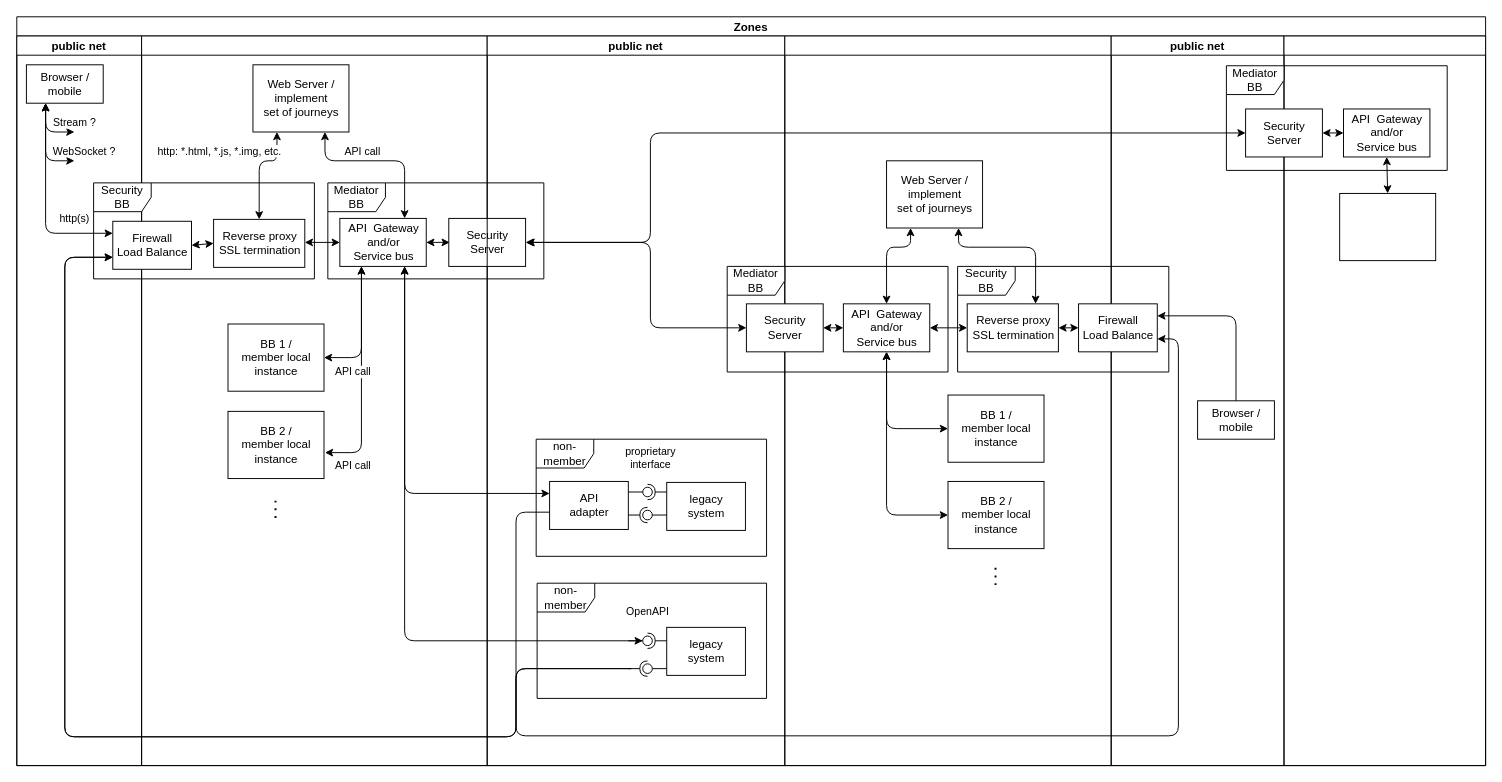
Some shapes in this 1502 by 782 pixel diagram are drawn without their labels. The box of each missing label's shape, as (x1, y1, x2, y2) in pixels:
BB / global standanone instance: (1339, 192, 1436, 261)
govstack member 1 (private): (141, 35, 487, 766)
govstack member M (private): (1283, 35, 1486, 766)
govstack member N (private): (784, 35, 1111, 766)
